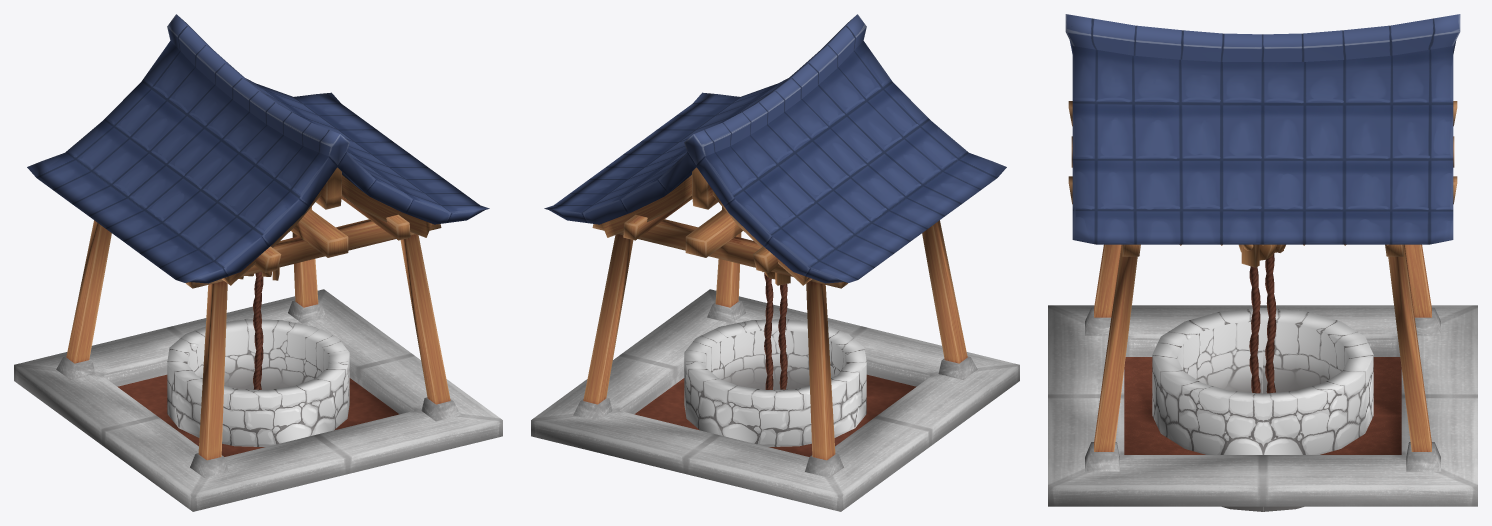
File: Pozo_Completo.fbx
3 views of the same model, side by side, from view 1: azimuth 30°, elevation 25°; view 2: azimuth 150°, elevation 25°; view 3: azimuth 270°, elevation 25° (orthographic). The views are drawn at different scales.
Parts seen in each view (by area): view 1: Pozo_Completo; view 2: Pozo_Completo; view 3: Pozo_Completo.
Boxes of the visible parts, box(x1,y1,x2,y2) form: Pozo_Completo: box(14, 14, 502, 511); Pozo_Completo: box(531, 14, 1019, 511); Pozo_Completo: box(1048, 14, 1477, 511).
Bounding box in the file's own units: 400 × 476 × 400.
1 material, 1 textured.
